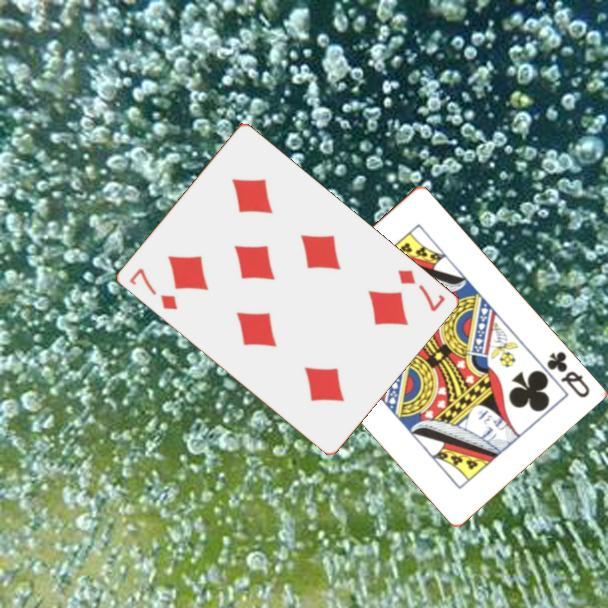c12: (543, 347, 592, 401)
d07: (393, 266, 448, 315), (125, 265, 180, 313)
